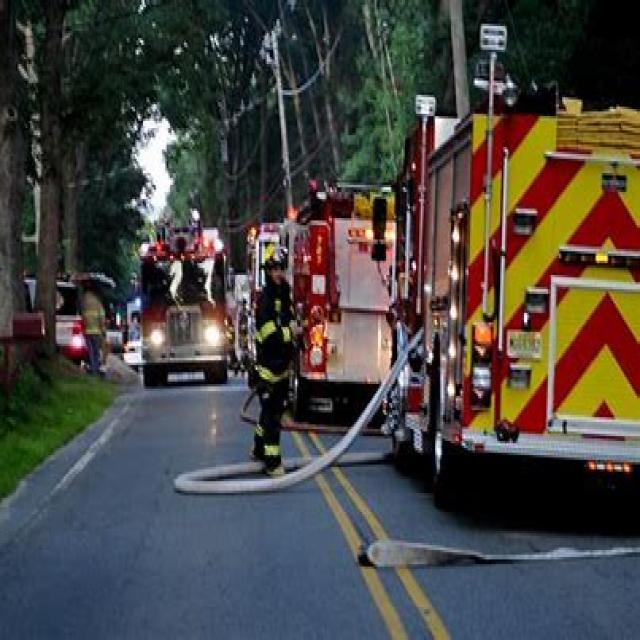Fire-engine: (368, 21, 638, 512), (243, 176, 397, 427), (135, 214, 235, 386)
